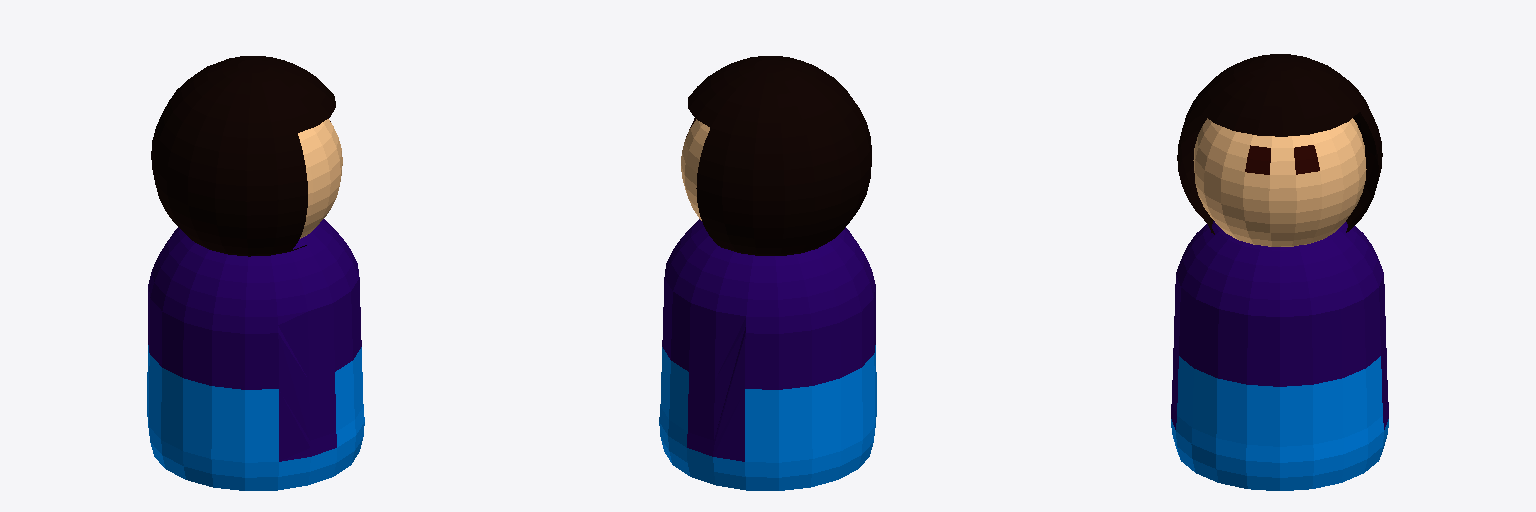
The model's file is persona.obj.
The picture shows the model from 3 angles: view 1: azimuth 30°, elevation 25°; view 2: azimuth 150°, elevation 25°; view 3: azimuth 270°, elevation 25°; orthographic projection.
Parts seen in each view (by area): view 1: pSphere1, pSphere3, pSphere2; view 2: pSphere1, pSphere3, pSphere2; view 3: pSphere1, pSphere2, pSphere3.
Boxes of the visible parts, <box> form: pSphere1: <box>147,219,364,490</box>; pSphere3: <box>151,56,335,256</box>; pSphere2: <box>298,118,342,238</box>; pSphere1: <box>659,219,876,490</box>; pSphere3: <box>688,56,871,255</box>; pSphere2: <box>681,118,709,220</box>; pSphere1: <box>1171,221,1388,490</box>; pSphere2: <box>1193,118,1366,246</box>; pSphere3: <box>1177,54,1382,234</box>.
Size of the model in its own units: 2 by 3.86 by 2.